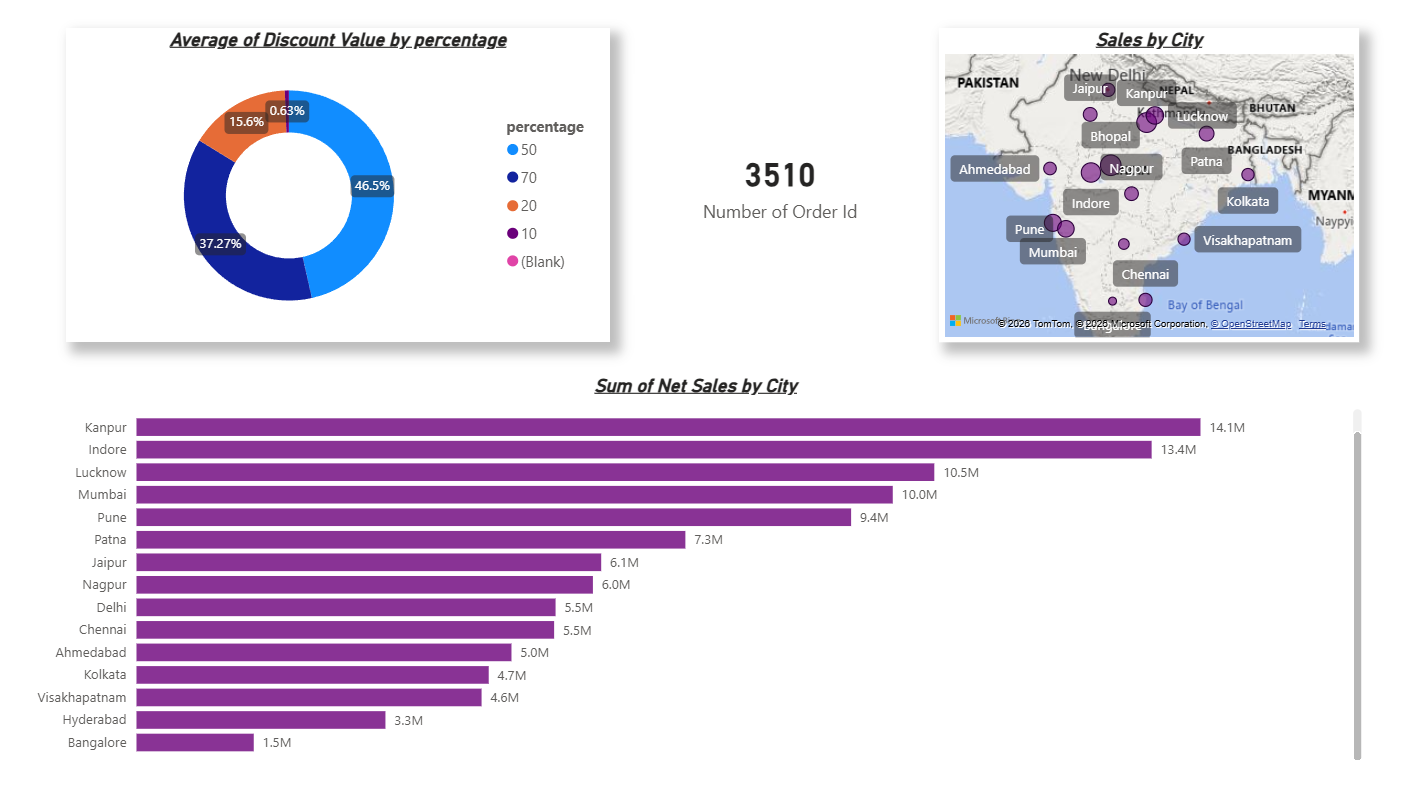

Layout of this report page (visuals, bound fields, positions):
{"tool":"powerbi","page":{"name":"Dashboard 3","canvas":[1280,720],"ordinal":2},"visuals":[{"type":"donutChart","fields":{"Category":["Dim Promotion.percentage"],"Y":["Avg(Fact Table.Discount Value)"]},"box":[61.7,30.8,493.3,284.7],"z":0},{"type":"card","fields":{"Values":["CountNonNull(Fact Table.Order Id)"]},"box":[575.8,72.5,266.6,200.4],"z":1000},{"type":"barChart","fields":{"Category":["Dim Customers.City"],"Y":["Sum(Fact Table.Net Sales)"]},"box":[23.4,345,1218.2,355.7],"z":2000},{"type":"map","title":"Sales by City","fields":{"Category":["Dim Customers.City"],"Size":["Sum(Fact Table.Net Sales)"]},"box":[853.3,30.8,380.9,284.7],"z":3000}]}

Visuals, with their boxes in screenshot pixels (x1, y1, x2, y2), scaled from the page's 1280x720 canvas onto the 1410x786 screenshot:
donutChart - Dim Promotion.percentage x Avg(Fact Table.Discount Value): [68, 34, 611, 344]
card - CountNonNull(Fact Table.Order Id): [634, 79, 928, 298]
barChart - Dim Customers.City x Sum(Fact Table.Net Sales): [26, 377, 1368, 765]
"Sales by City" map: [940, 34, 1360, 344]
